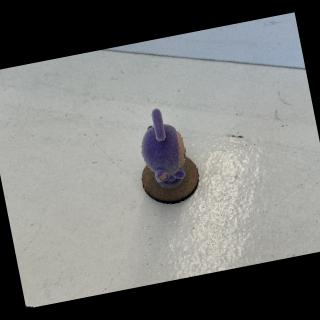teletubby: (141, 108, 185, 184)
